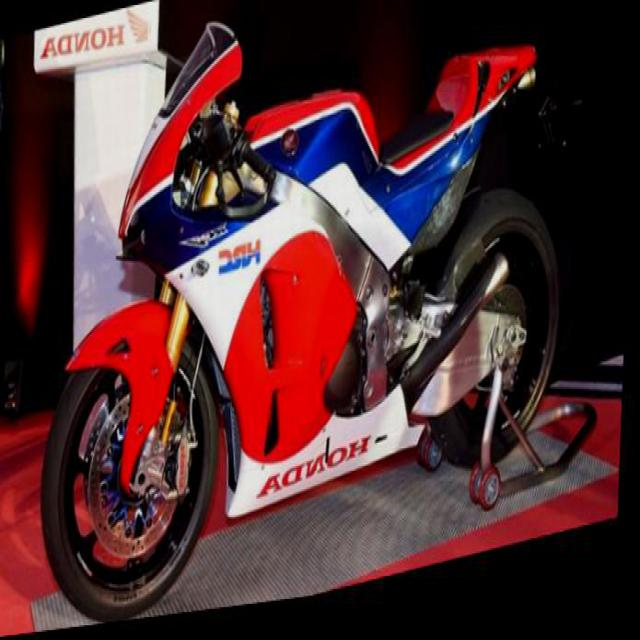HRC RCV 213: (21, 0, 590, 634)
